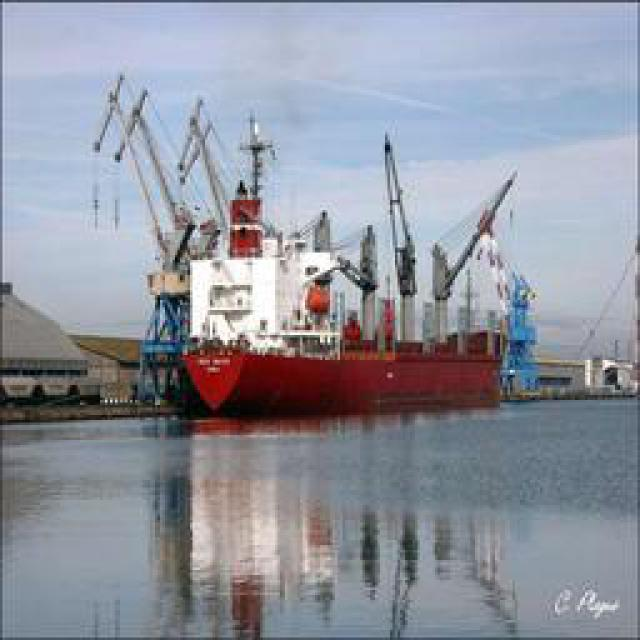Ship: (134, 90, 527, 403)
